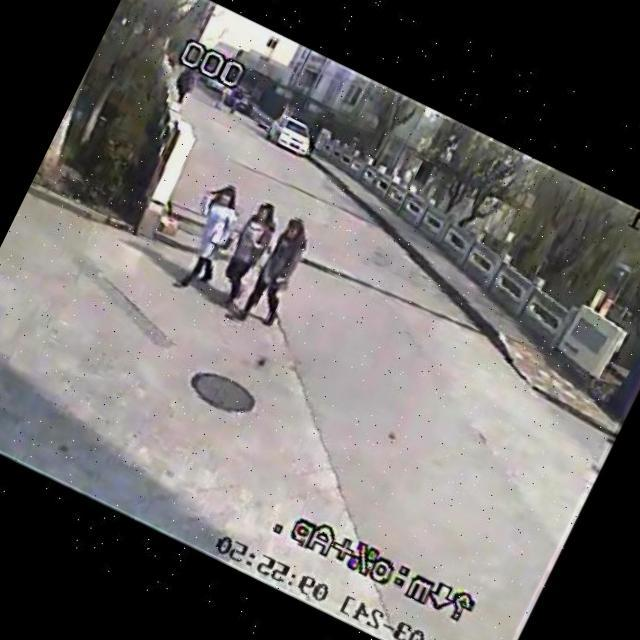person: (160, 176, 258, 309), (226, 211, 324, 342), (199, 191, 290, 315)
